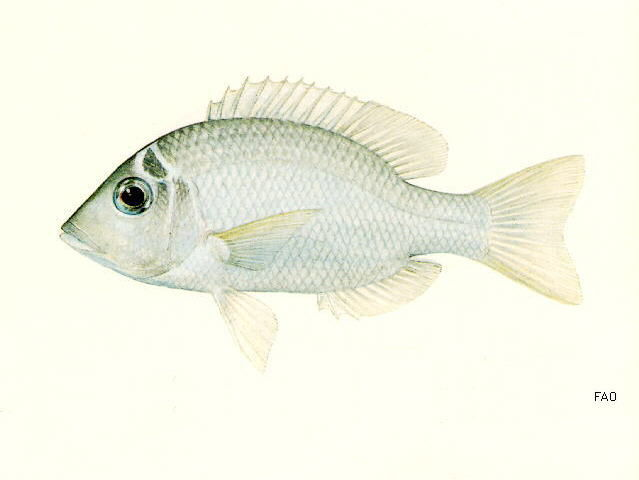fish: (60, 75, 587, 377)
